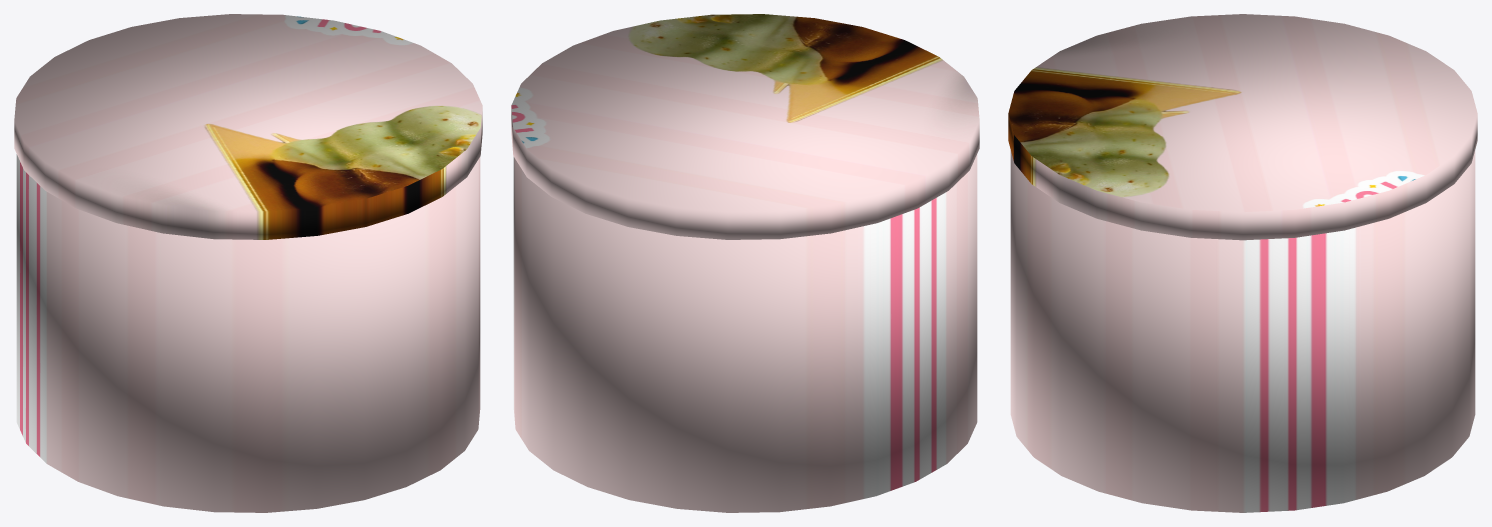
Rendered from prop_pistachio_strawberry_entremet.glb.
3 views of the same model, side by side, from view 1: azimuth 30°, elevation 25°; view 2: azimuth 150°, elevation 25°; view 3: azimuth 270°, elevation 25° (orthographic).
Visible parts, largest first — view 1: prop_pistachio_strawberry_entremet; view 2: prop_pistachio_strawberry_entremet; view 3: prop_pistachio_strawberry_entremet.
Boxes of the visible parts, x1,y1,x2,y2 form: prop_pistachio_strawberry_entremet: (14, 14, 482, 512); prop_pistachio_strawberry_entremet: (511, 14, 979, 512); prop_pistachio_strawberry_entremet: (1008, 14, 1477, 512).
Bounding box in the file's own units: 0.1212 × 0.086 × 0.1212.
1 material, 1 textured.
